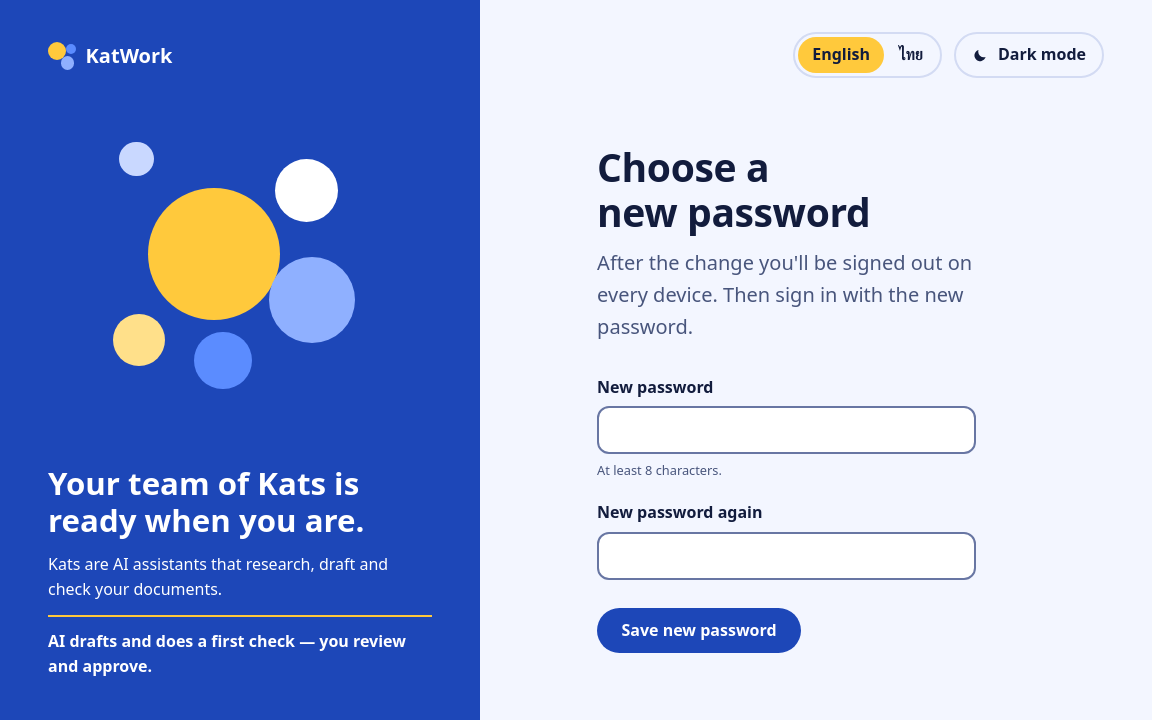
Test: reset_confirm_explains_an_invalid_or_used_link
The image size is (1152, 720).
Step 1. Type "a new long password" into the password field labelled "New password" → {"x": 787, "y": 430}, box [597, 406, 976, 454]
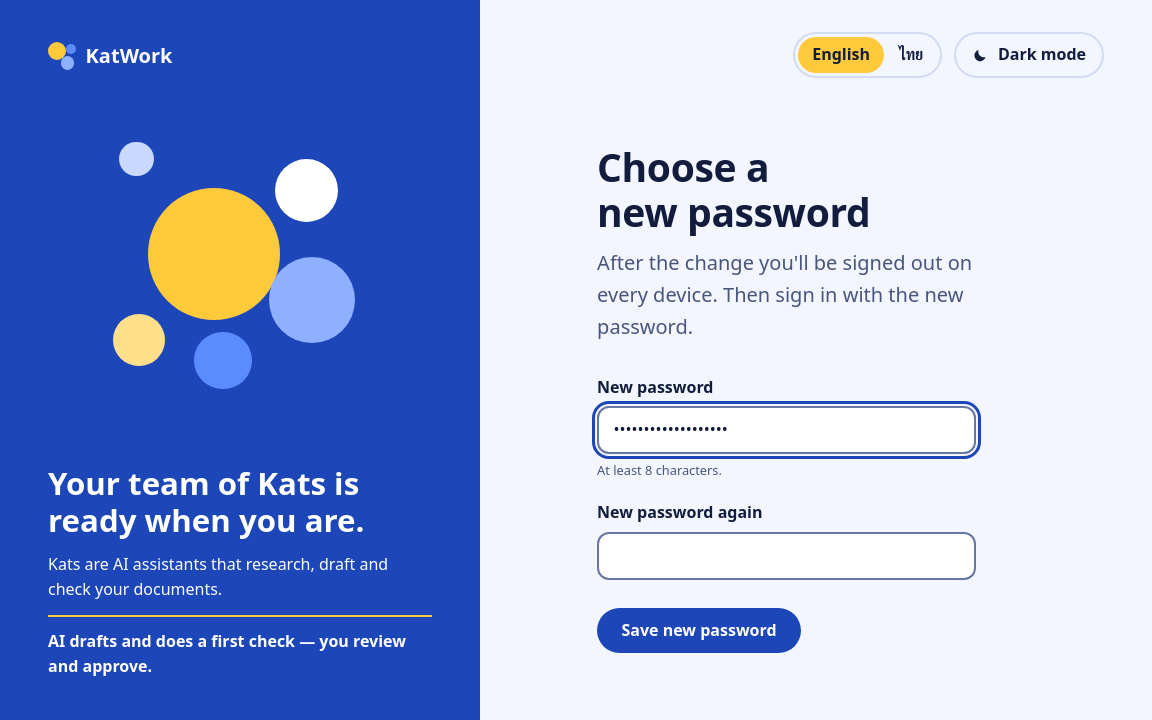
Step 2. Type "a new long password" into the password field labelled "New password again" → {"x": 787, "y": 556}, box [597, 532, 976, 580]
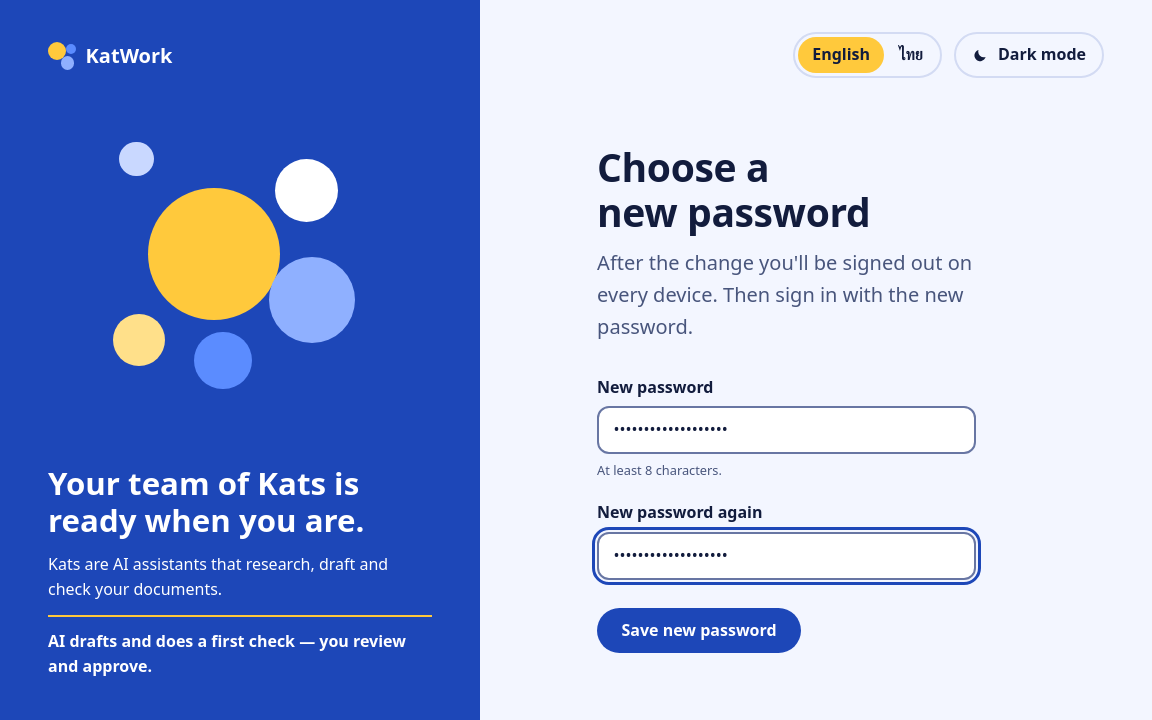
Step 3. Click the button "Save new password" → {"x": 699, "y": 630}, box [597, 608, 801, 653]
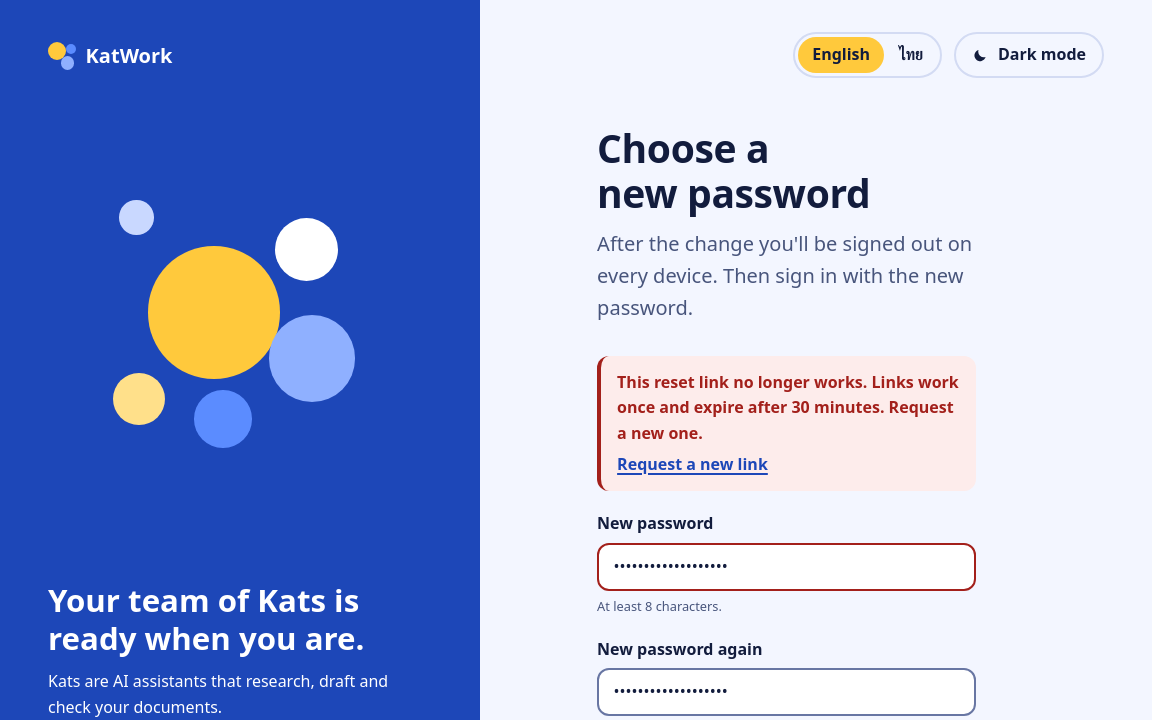
Expected: the message shows "This reset link no longer works. Links work once and expire after 30 minutes. Request a new one.", [617, 371, 959, 444]
